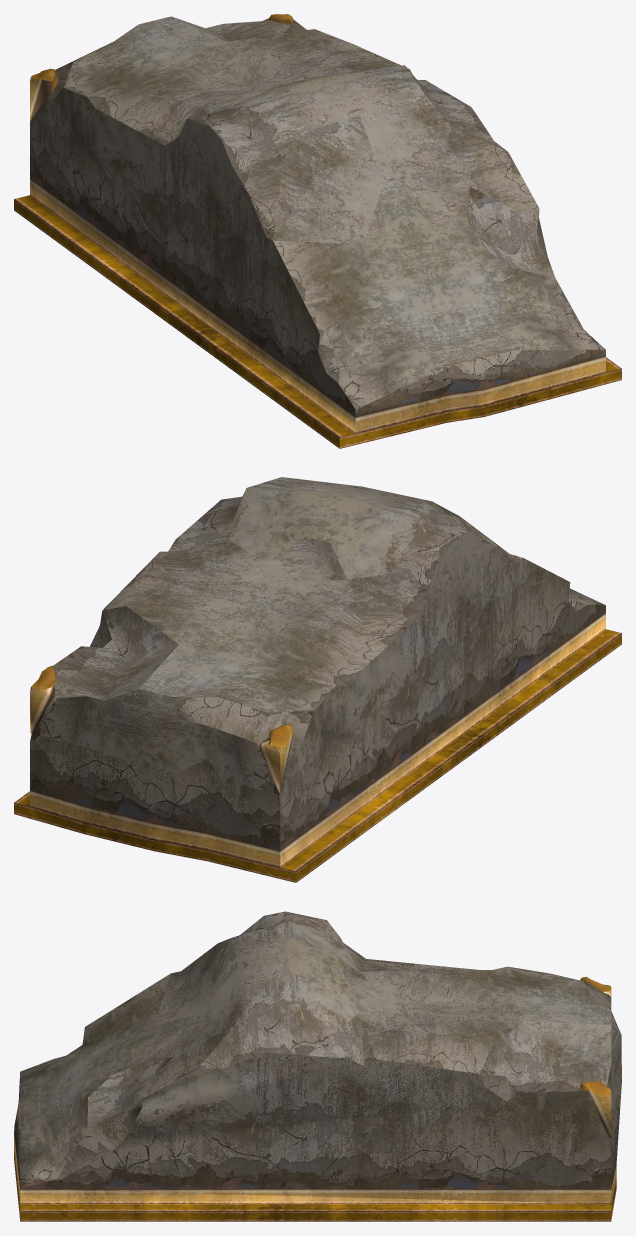
The picture shows the model from 3 angles, top to bottom: view 1: azimuth 30°, elevation 25°; view 2: azimuth 150°, elevation 25°; view 3: azimuth 270°, elevation 25°; orthographic projection. The views are drawn at different scales.
Visible parts, largest first — view 1: SM_DK_Crumbled_WallTop_02_LOD0; view 2: SM_DK_Crumbled_WallTop_02_LOD0; view 3: SM_DK_Crumbled_WallTop_02_LOD0.
Boxes of the visible parts, x1=… form: SM_DK_Crumbled_WallTop_02_LOD0: x1=14, y1=14, x2=621, y2=448; SM_DK_Crumbled_WallTop_02_LOD0: x1=14, y1=477, x2=621, y2=882; SM_DK_Crumbled_WallTop_02_LOD0: x1=14, y1=911, x2=621, y2=1221.
Size of the model in its own units: 2 by 1.53 by 4.11.
2 materials, 2 textured.
